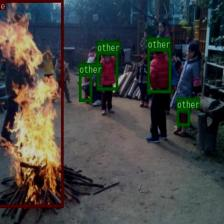fire: (0, 0, 62, 207)
